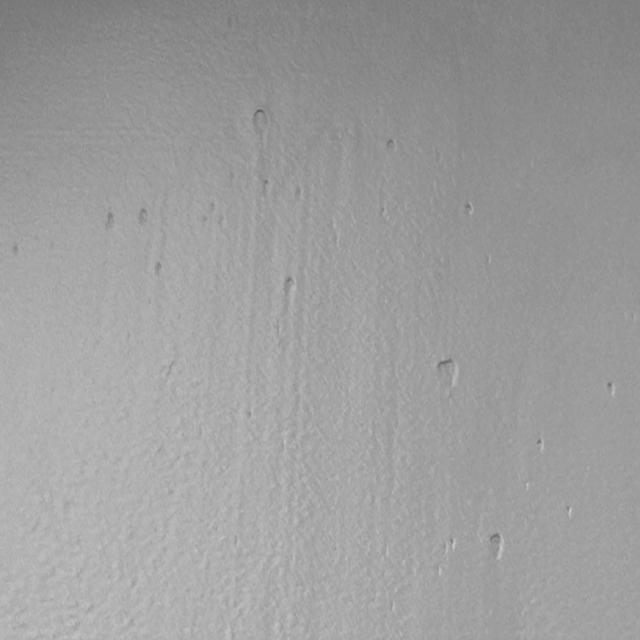pin holes: (433, 356, 461, 390), (246, 109, 268, 140), (484, 530, 505, 560), (279, 275, 297, 301), (104, 211, 121, 234), (135, 208, 152, 230), (604, 379, 621, 400), (384, 135, 398, 155), (444, 536, 458, 556), (463, 201, 478, 219), (153, 262, 167, 281), (10, 242, 24, 260), (535, 438, 549, 455), (293, 185, 305, 204), (261, 179, 273, 197), (565, 503, 576, 521)
